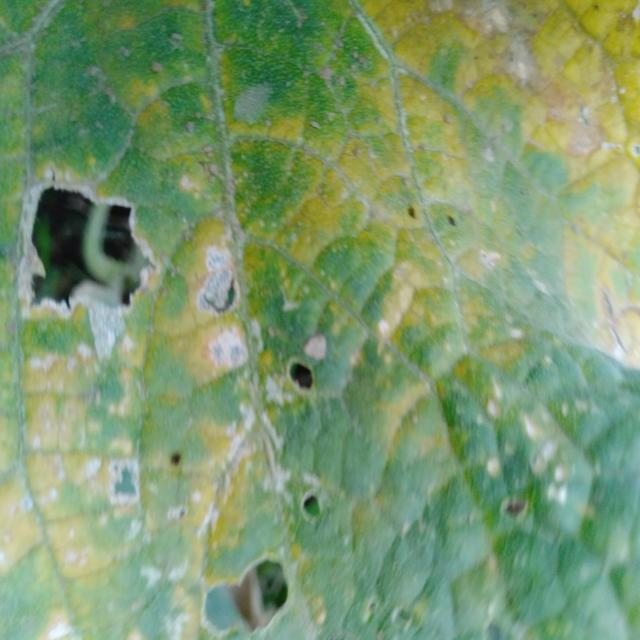cucumber_anthracnose: (11, 37, 622, 638)
